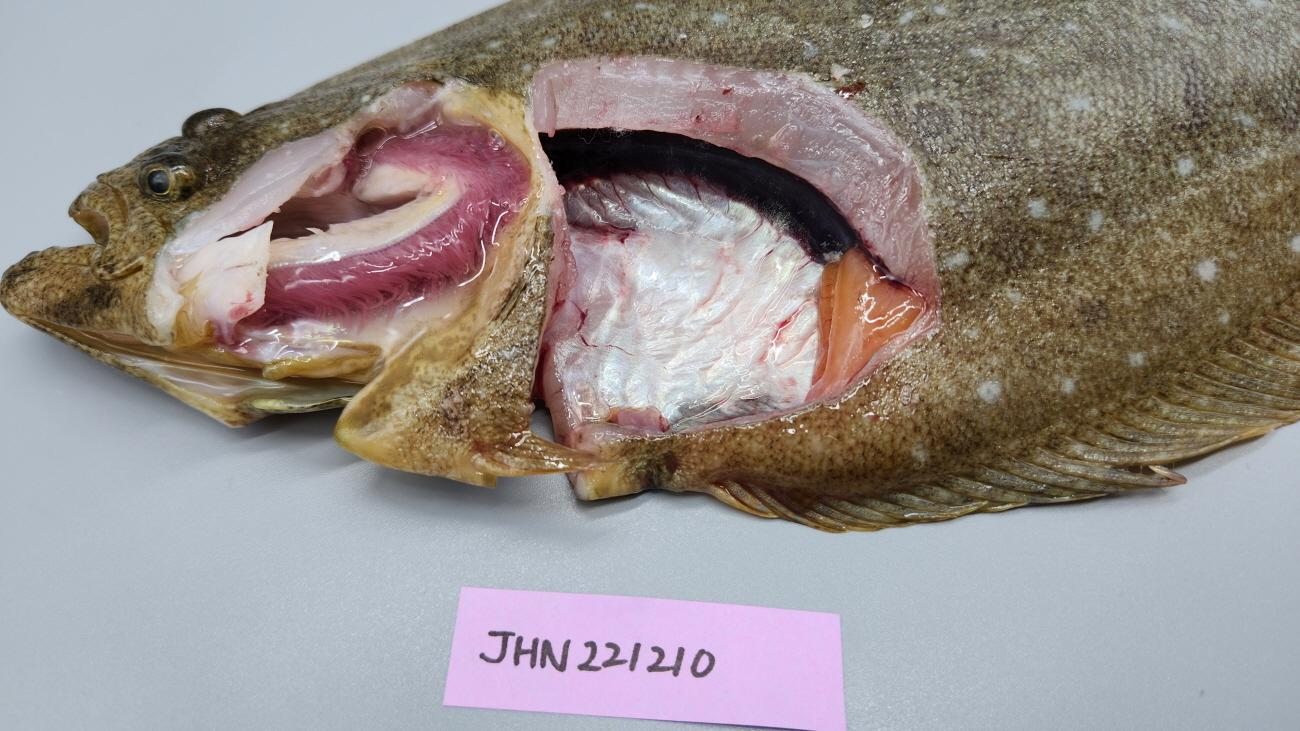POKIN: (538, 127, 861, 263)
POREN: (801, 247, 927, 403)
